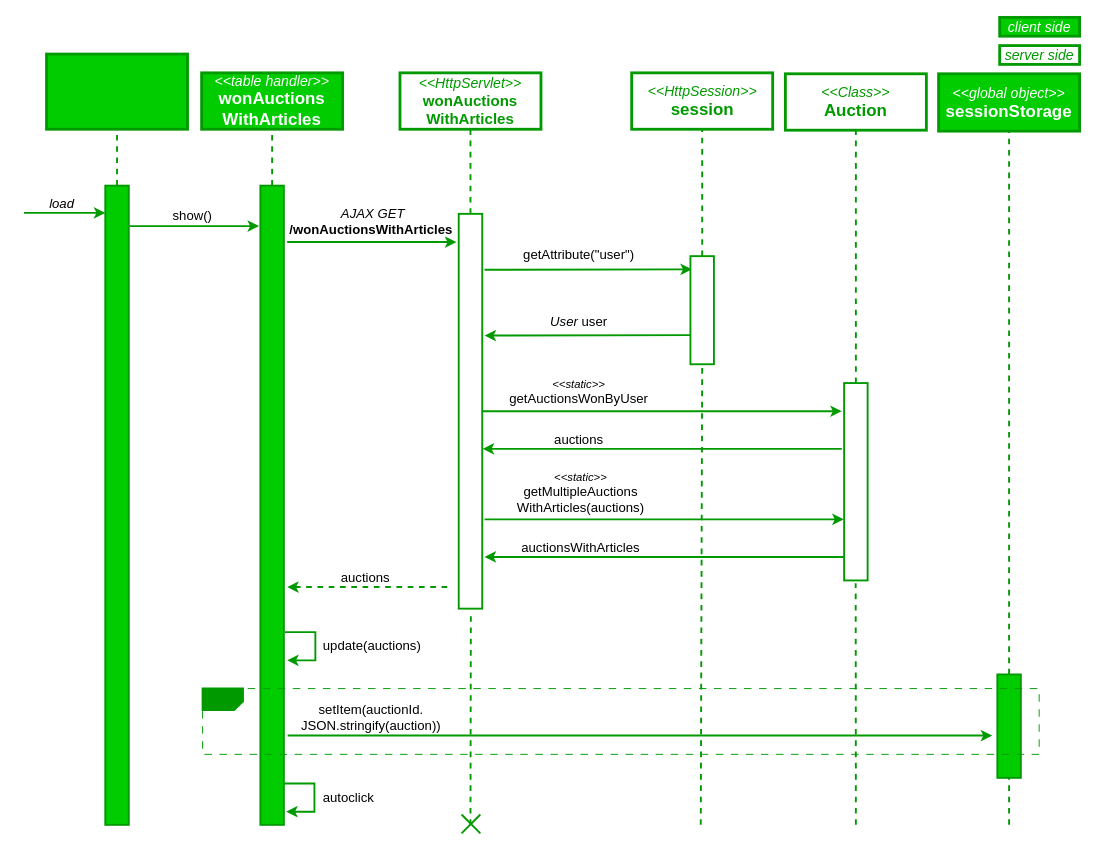
The diagram is 1097 pixels wide and 852 high, and some of its shapes have lost their labels. The shapes that lost their labels are listed below. From the top down, each one's centre as x and y in pixels, then its label:
(116,91): <<page load>> home.html buy.js
(222,699): loop
